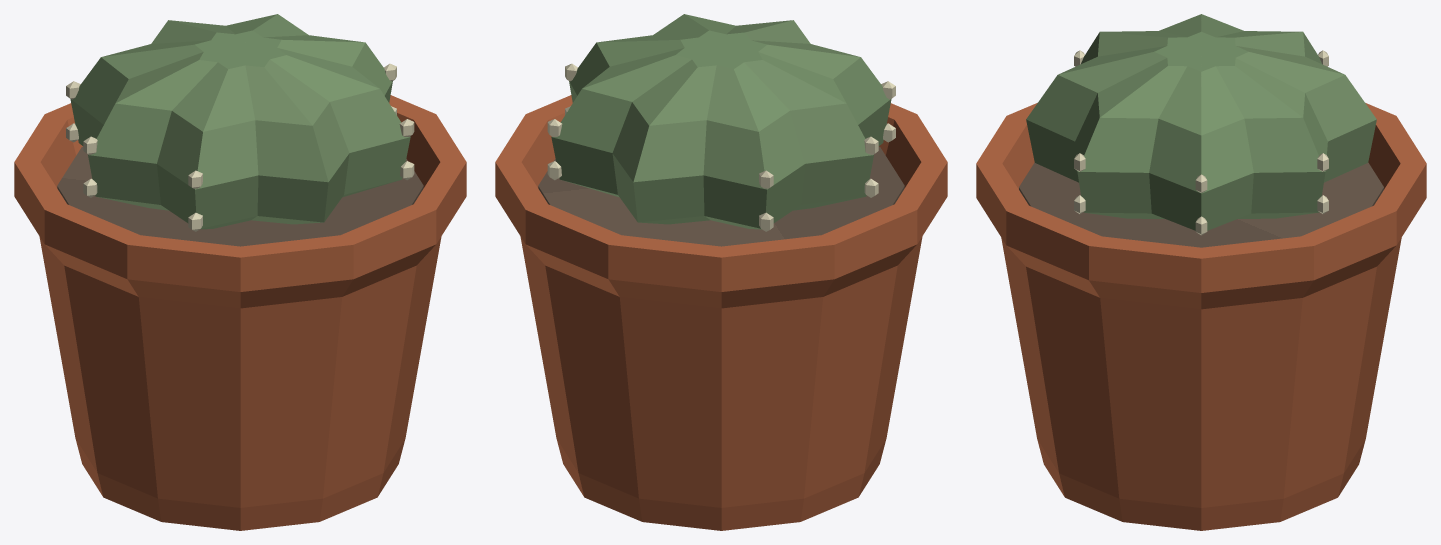
The model's file is new-asterias.glb.
3 renders of one model, left to right at view 1: azimuth 30°, elevation 25°; view 2: azimuth 150°, elevation 25°; view 3: azimuth 270°, elevation 25°, orthographic.
Visible parts, largest first — view 1: new-asterias/review-terra-vessel, new-asterias/ribbed-stem-001, new-asterias/review-rooted-soil; view 2: new-asterias/review-terra-vessel, new-asterias/ribbed-stem-001, new-asterias/review-rooted-soil; view 3: new-asterias/review-terra-vessel, new-asterias/ribbed-stem-001, new-asterias/review-rooted-soil.
Part boxes in pixels (box(x1,y1,x2,y2)): new-asterias/review-terra-vessel: box(14, 95, 466, 530); new-asterias/ribbed-stem-001: box(70, 14, 410, 229); new-asterias/review-rooted-soil: box(57, 146, 423, 246); new-asterias/review-terra-vessel: box(495, 95, 947, 530); new-asterias/ribbed-stem-001: box(551, 14, 891, 229); new-asterias/review-rooted-soil: box(538, 146, 904, 246); new-asterias/review-terra-vessel: box(976, 103, 1426, 530); new-asterias/ribbed-stem-001: box(1026, 14, 1376, 230); new-asterias/review-rooted-soil: box(1019, 162, 1383, 247).
Bounding box in the file's own units: 0.19 × 0.192 × 0.19.
Materials: 4 (4 with a texture image).
